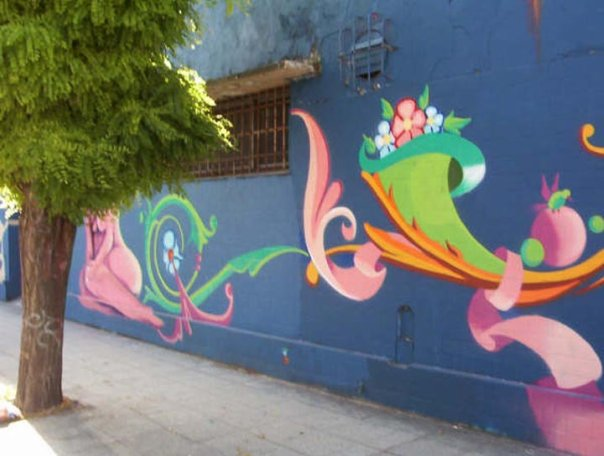graffity: (73, 92, 602, 455)
